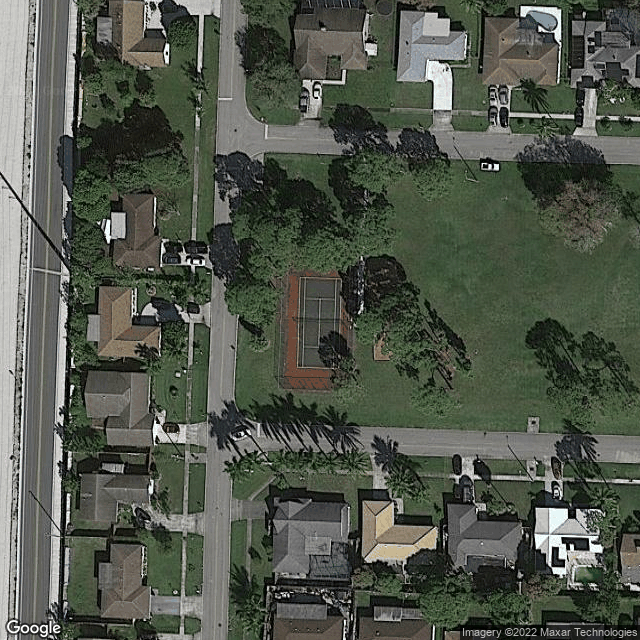Court: (296, 274, 342, 371)
